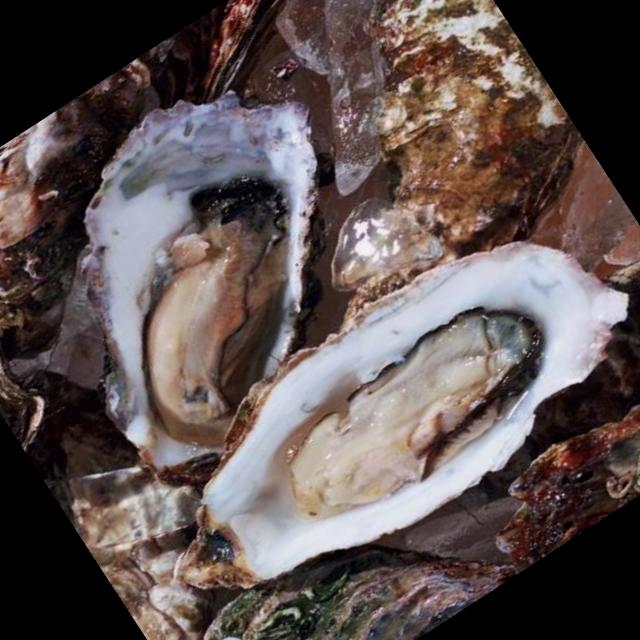Oyster-Closed: (341, 0, 582, 320)
Oyster-Open: (176, 238, 640, 590), (82, 82, 322, 486)
